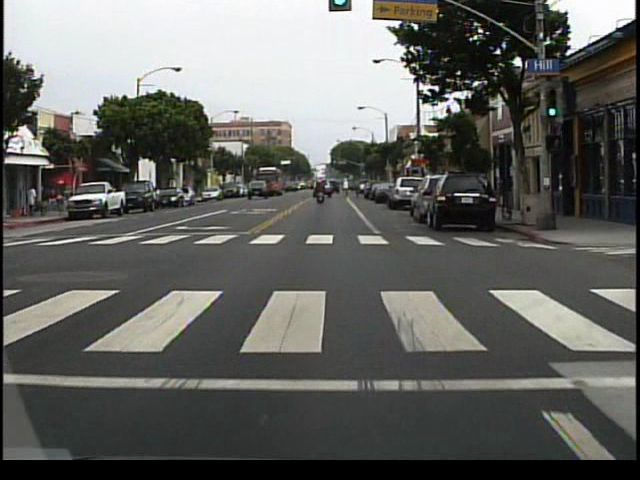person: (27, 182, 42, 219), (314, 182, 328, 209)
